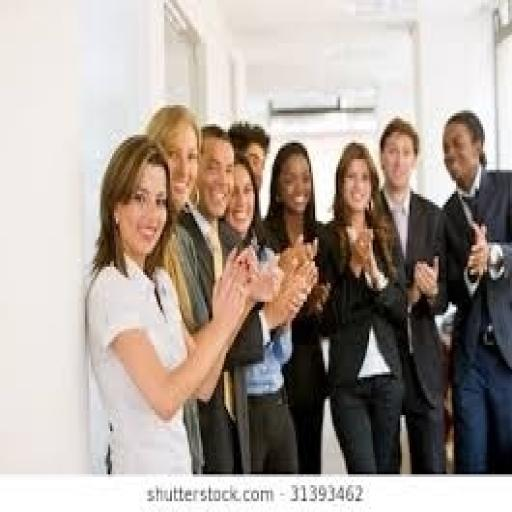clapping: (83, 132, 276, 474), (318, 140, 410, 474), (373, 116, 448, 474), (439, 108, 510, 474), (259, 140, 334, 472)
